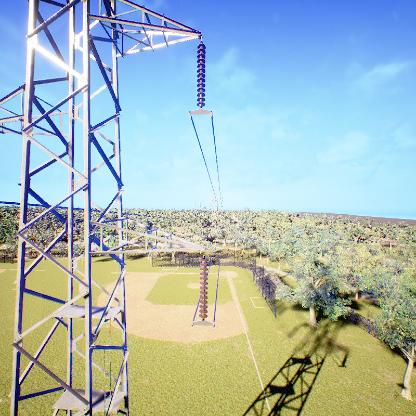insulator: (195, 42, 208, 110), (198, 257, 211, 320)
